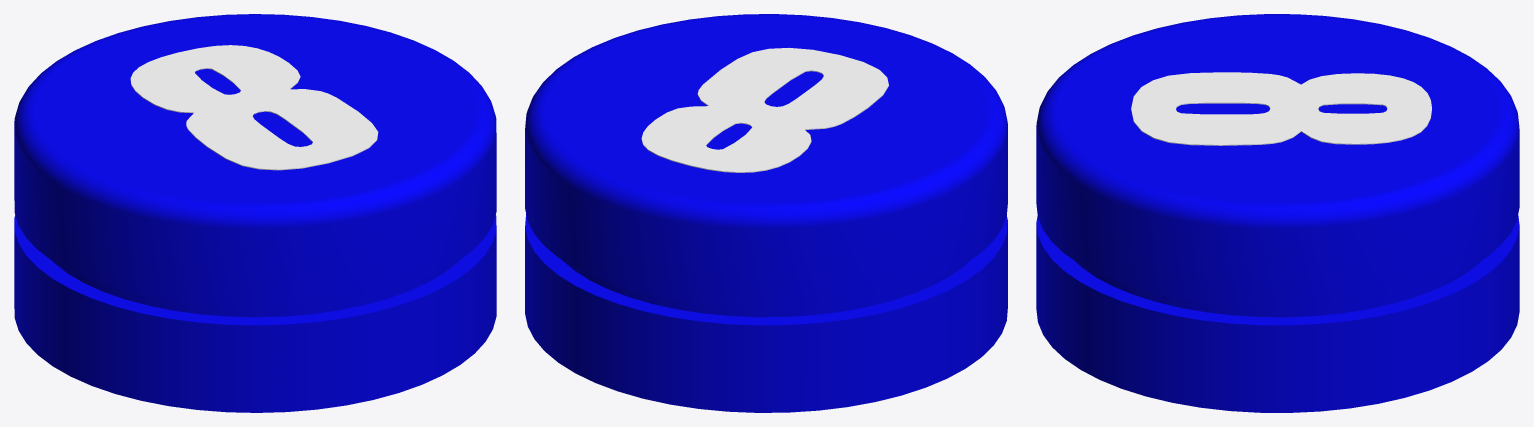
File: nubot_frame8_blue.dae
The picture shows the model from 3 angles, left to right: view 1: azimuth 30°, elevation 25°; view 2: azimuth 150°, elevation 25°; view 3: azimuth 270°, elevation 25°; orthographic projection.
Visible parts, largest first — view 1: SketchUp (×3), instance_0; view 2: SketchUp (×3), instance_0; view 3: SketchUp (×3), instance_0.
Part boxes in pixels (x1,y1,x2,y2): SketchUp (×3): (14,14,496,412); instance_0: (130,45,378,170); SketchUp (×3): (525,14,1007,412); instance_0: (641,48,888,172); SketchUp (×3): (1036,14,1519,412); instance_0: (1131,72,1431,145).
Bounding box in the file's own units: 19.66 × 19.68 × 9.09.
